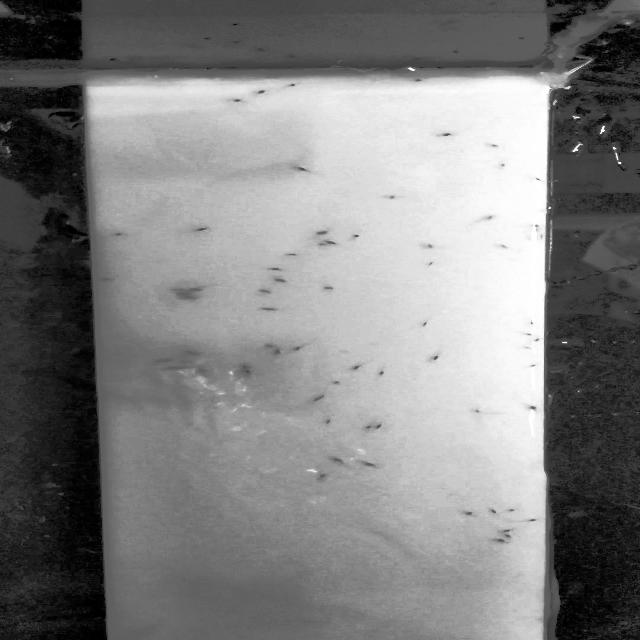shrimp: (478, 212, 505, 226), (429, 128, 458, 140), (350, 358, 371, 371), (276, 81, 303, 91), (373, 191, 406, 199), (184, 348, 210, 358), (150, 358, 192, 364), (289, 342, 314, 352), (353, 458, 378, 468), (248, 286, 272, 296), (430, 348, 446, 362), (295, 164, 317, 174), (325, 457, 352, 465), (159, 367, 201, 372), (512, 329, 538, 337), (370, 366, 387, 378), (520, 401, 538, 412), (316, 472, 338, 481), (316, 240, 340, 248), (471, 409, 509, 414), (418, 319, 436, 329), (227, 98, 249, 106), (498, 160, 514, 171), (190, 227, 212, 235), (317, 284, 339, 292), (316, 229, 338, 236), (409, 76, 426, 85), (311, 394, 328, 403), (503, 505, 520, 514), (514, 344, 533, 352), (457, 509, 476, 517), (178, 287, 208, 292), (323, 417, 337, 427), (422, 242, 438, 250), (484, 506, 500, 514), (266, 265, 284, 272), (496, 243, 514, 250), (521, 363, 539, 370), (266, 278, 291, 283), (504, 533, 519, 541), (499, 526, 516, 533), (485, 142, 499, 150), (532, 177, 546, 185), (330, 382, 344, 390), (251, 90, 269, 96), (260, 306, 278, 312), (496, 537, 511, 544), (235, 364, 248, 372), (191, 367, 211, 372), (244, 369, 255, 378), (266, 343, 278, 350), (283, 253, 298, 258), (101, 277, 113, 282), (429, 258, 436, 266), (375, 422, 384, 428), (527, 518, 540, 522), (275, 349, 283, 354), (364, 425, 372, 428), (354, 234, 359, 238), (118, 232, 122, 237)
